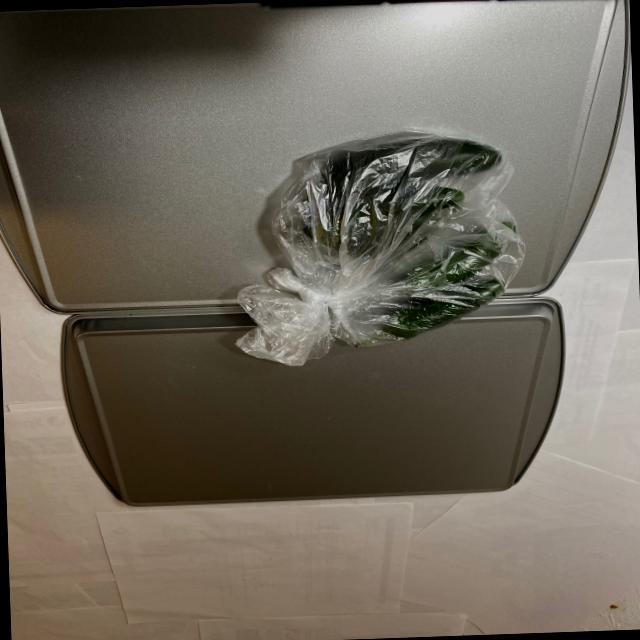chilli: (257, 124, 520, 360)
